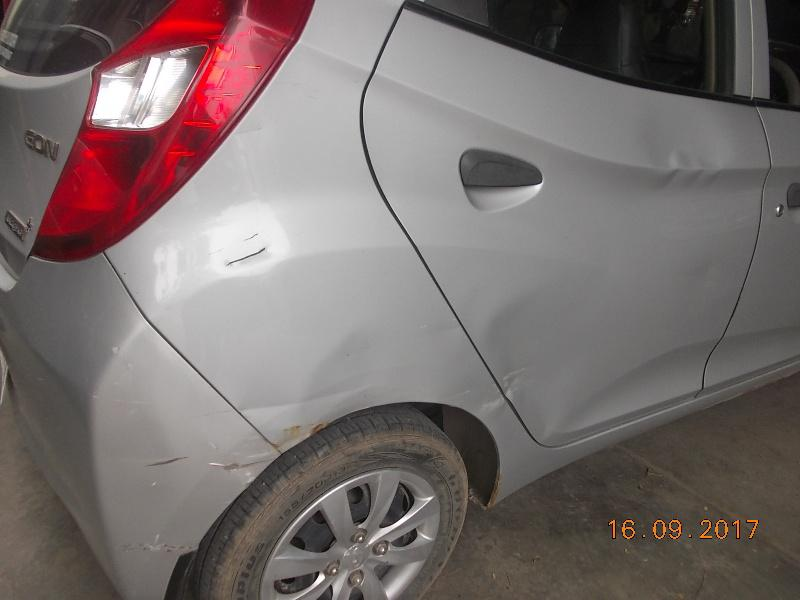doorouter-dent: (387, 59, 738, 430)
quaterpanel-dent: (155, 128, 404, 488)
rear-bumper-dent: (0, 366, 274, 599)
